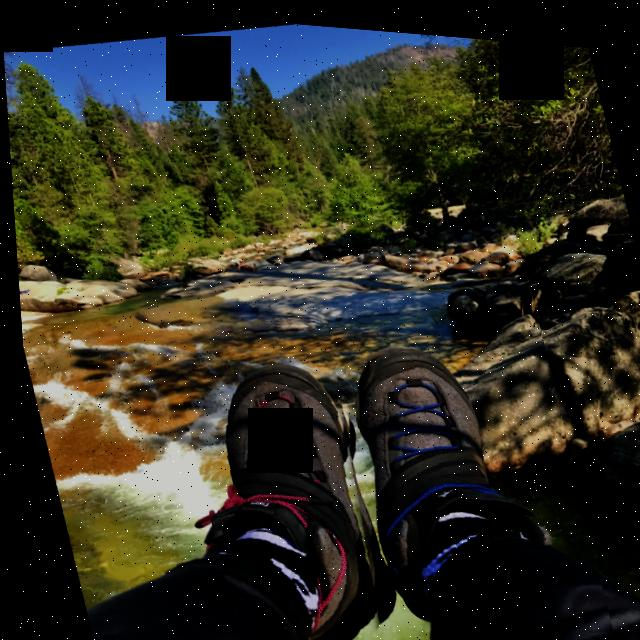shoe: (323, 253, 607, 640), (159, 298, 399, 640)
